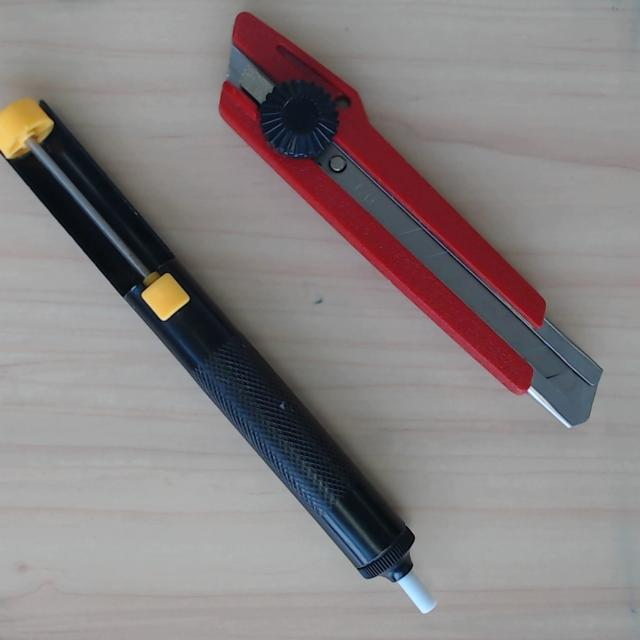Desoldering-Pump: (0, 86, 459, 630)
